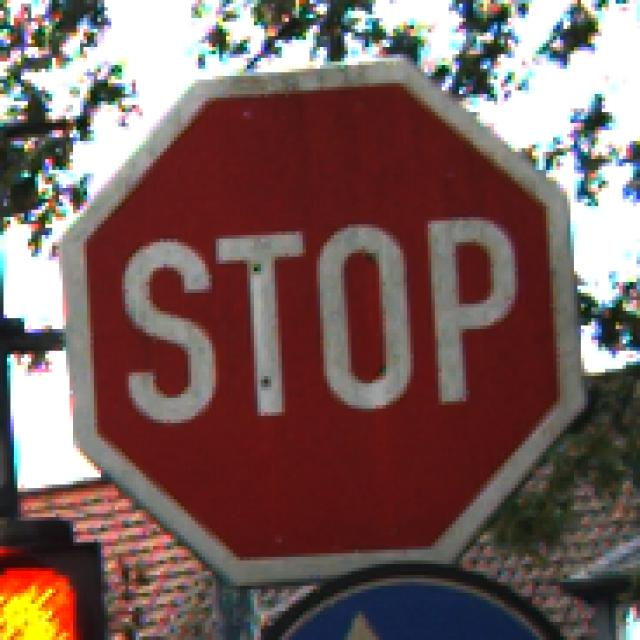STOP: (57, 55, 589, 587)
